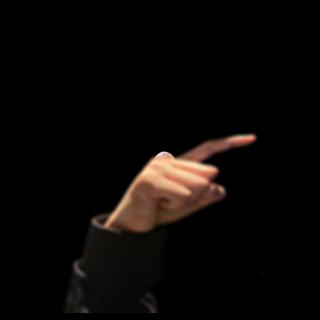WHY: (101, 124, 262, 231)
